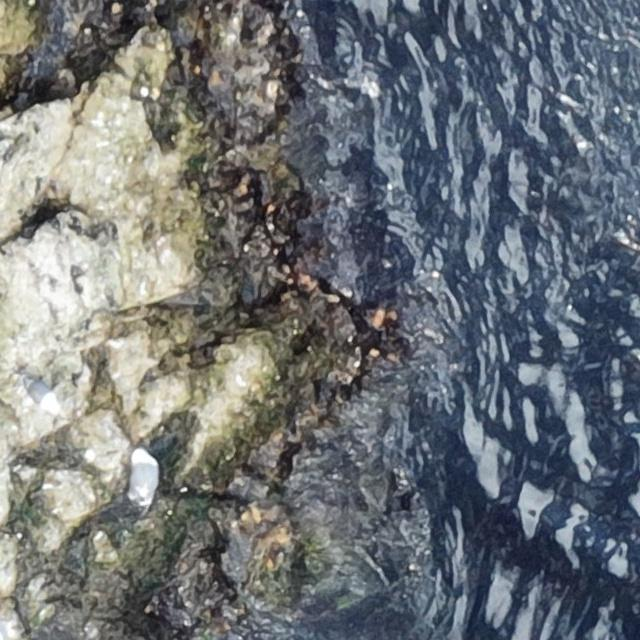umineko: (127, 448, 158, 506), (20, 374, 60, 414)
